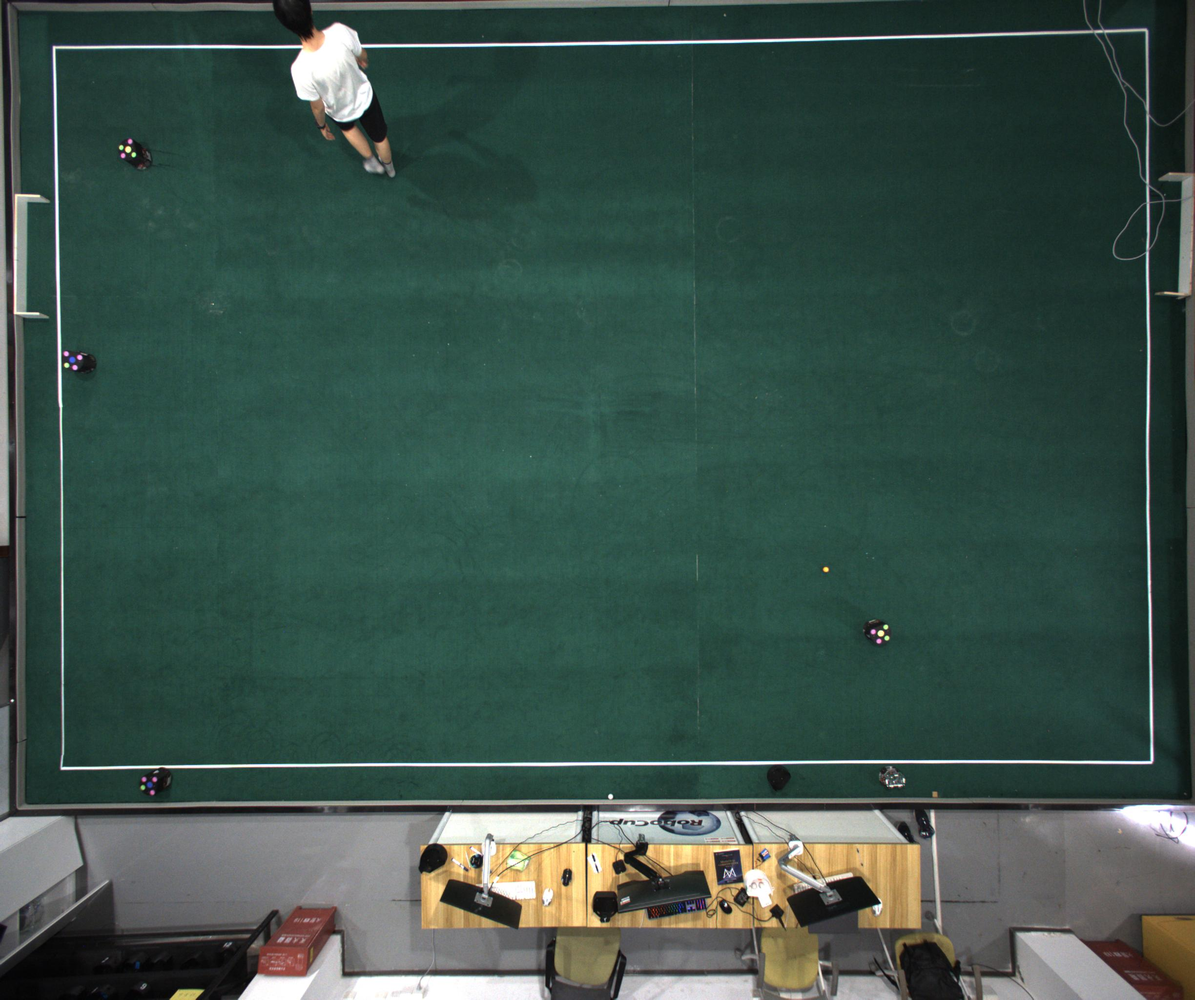ball: (823, 567, 829, 572)
blue_bot: (62, 350, 84, 372), (139, 775, 160, 796)
yellow_bot: (870, 624, 891, 645), (119, 138, 137, 162)
